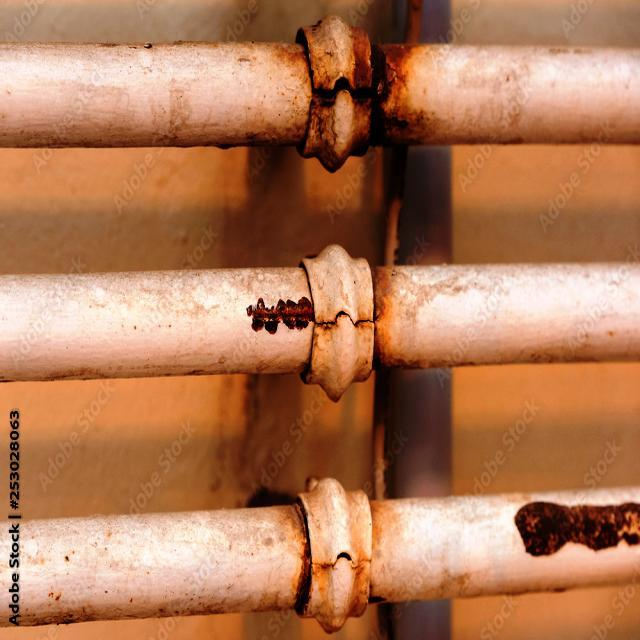Crevice Corrosion: (316, 310, 382, 327)
Pitting Corrosion: (313, 24, 417, 153), (512, 502, 639, 559), (246, 294, 319, 332)
